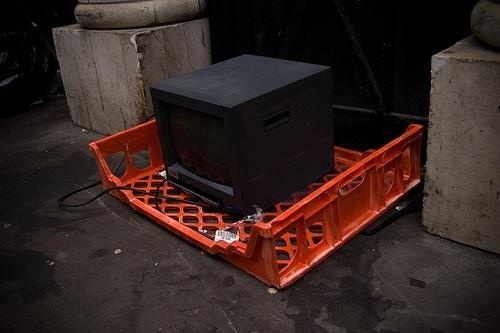tvmonitor: (150, 54, 337, 218)
